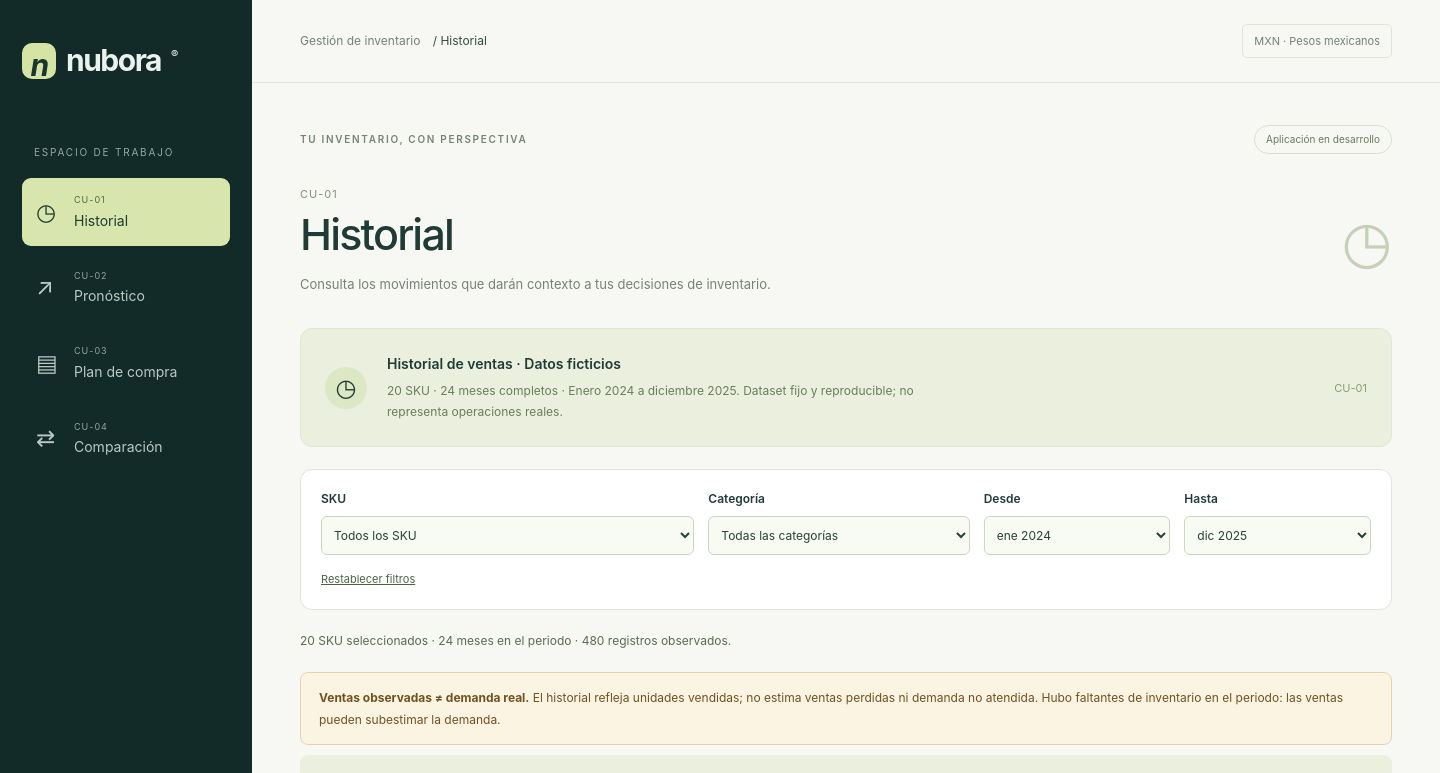
it: Nubora › abre CU-04 y conserva navegables los tres casos anteriores
Click the button "⇄ CU-04 Comparación" at (126,438), box [22,404,230,472]
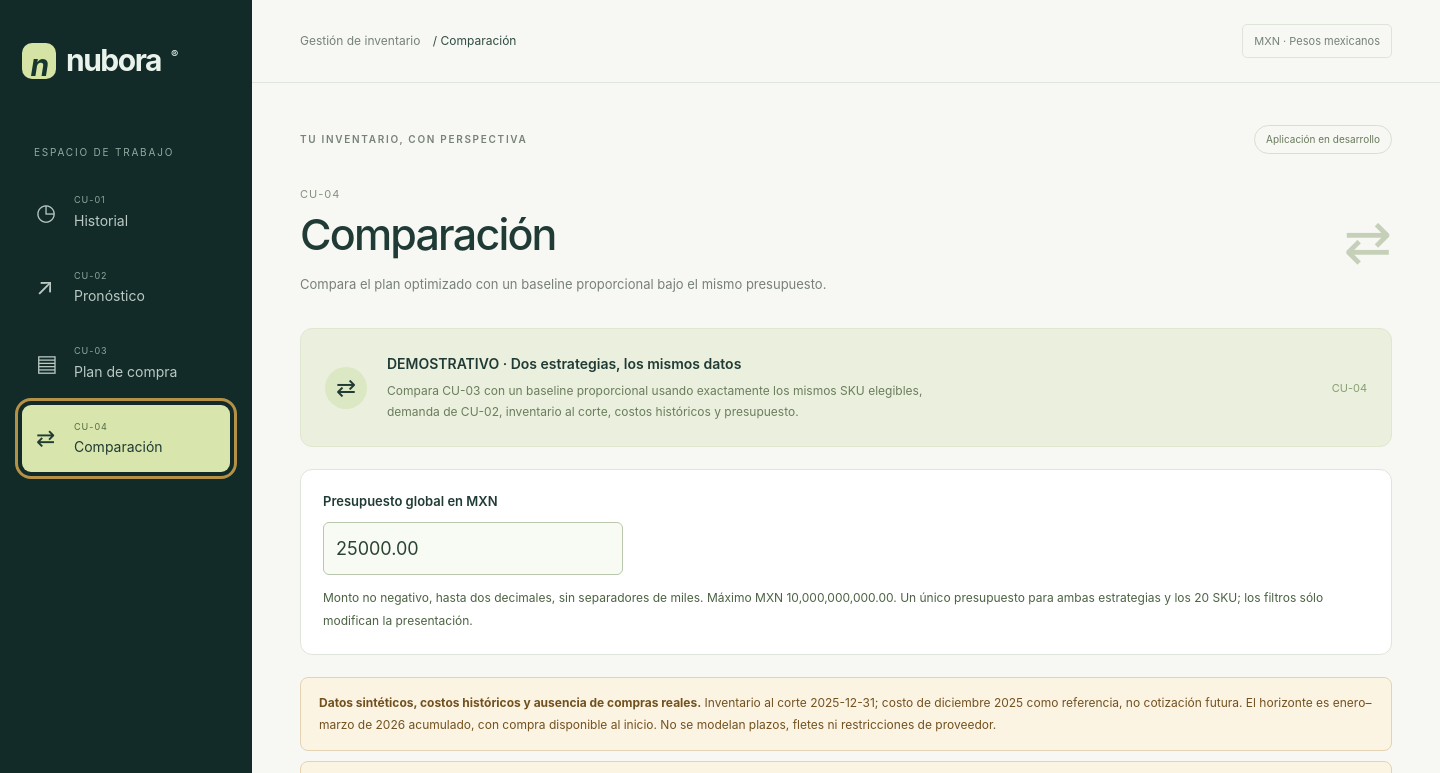
Click the button "▤ CU-03 Plan de compra" at (126,363), box [22,329,230,396]
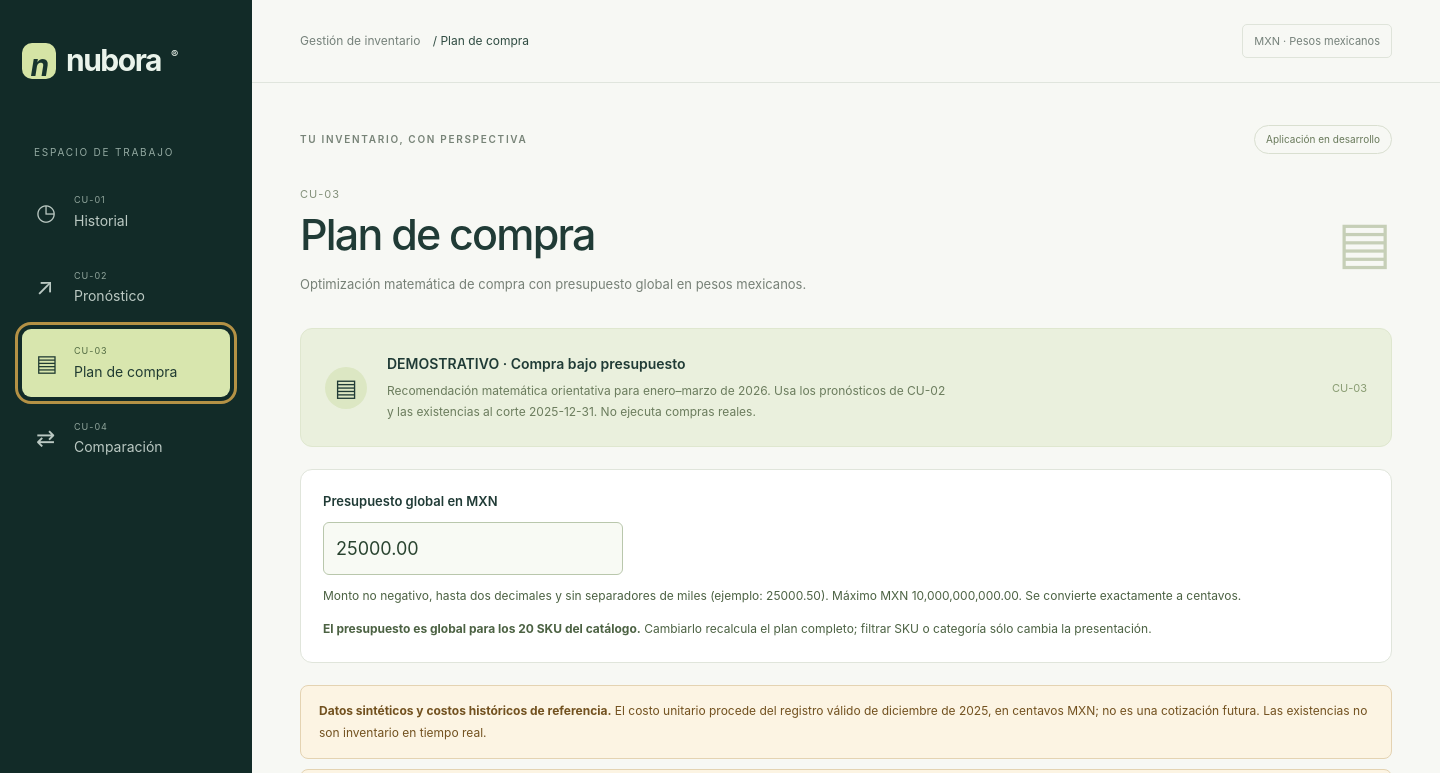
Click the button "↗ CU-02 Pronóstico" at (126,287), box [22,254,230,321]
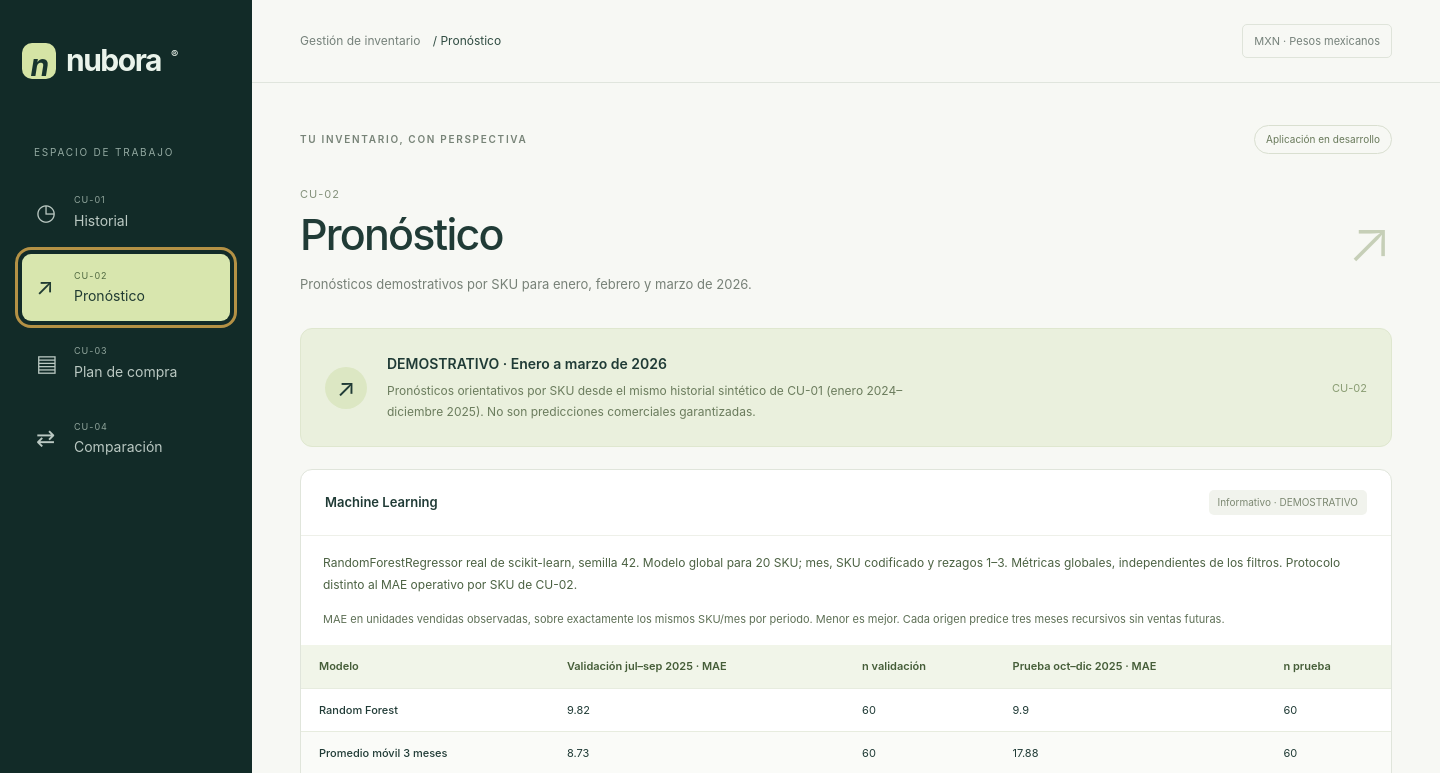
Click the button "◷ CU-01 Historial" at (126,212), box [22,178,230,246]
(page scrolled)
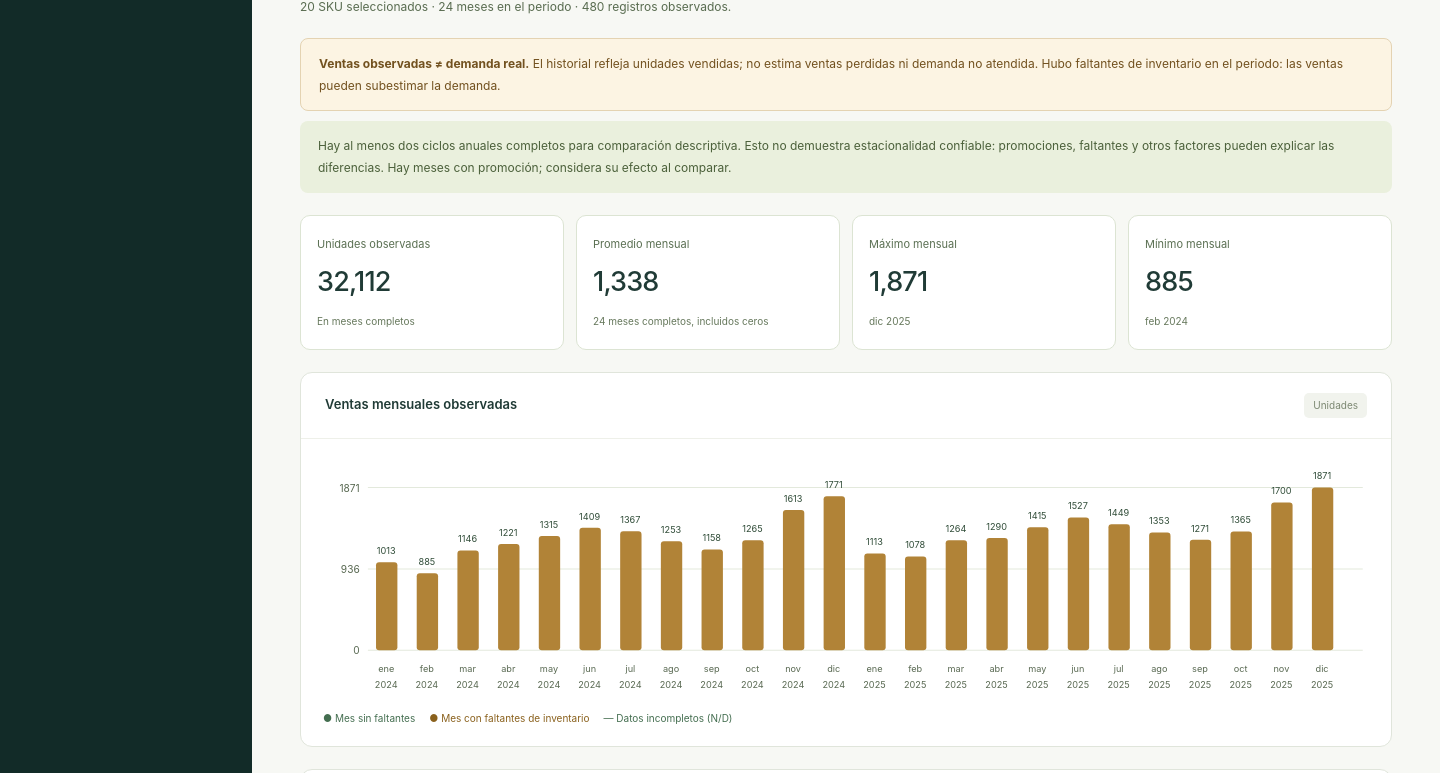
Check: the heading "Ventas mensuales observadas" is shown, box [325,395,517,415]
